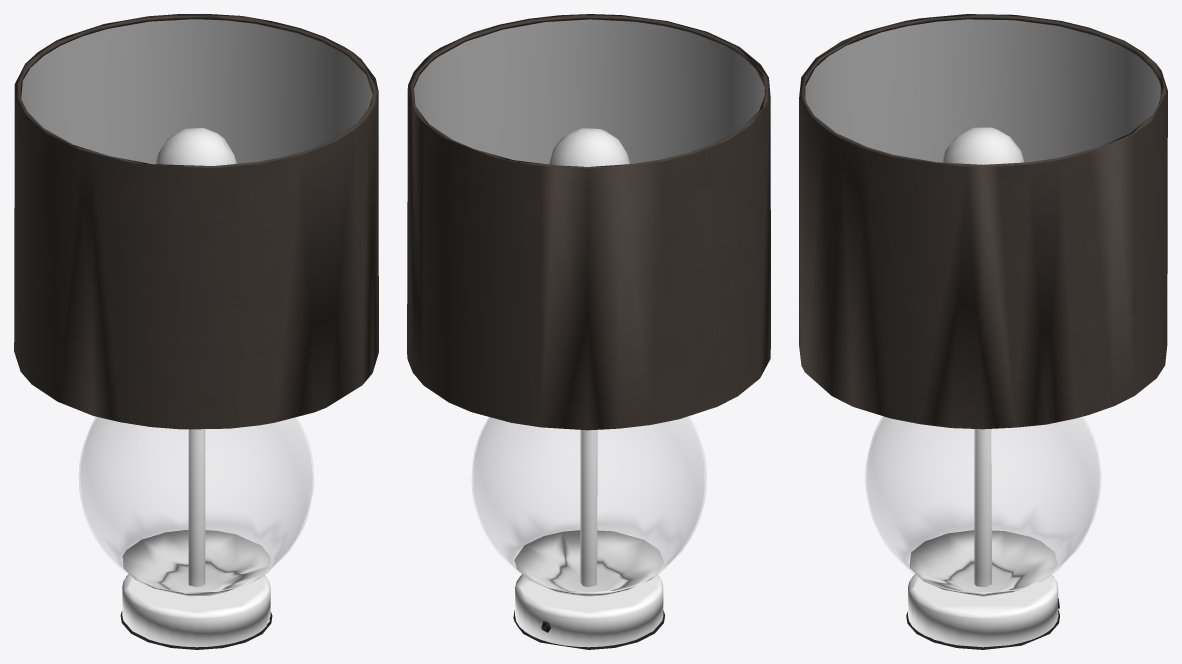
Rendered from IridescenceLamp.glb.
3 renders of one model, left to right at view 1: azimuth 30°, elevation 25°; view 2: azimuth 150°, elevation 25°; view 3: azimuth 270°, elevation 25°, orthographic.
Parts seen in each view (by area): view 1: lamp, lamp_iridescence, lamp_transmission; view 2: lamp, lamp_iridescence, lamp_transmission; view 3: lamp, lamp_iridescence, lamp_transmission.
Boxes of the visible parts, x1,y1,x2,y2 form: lamp: [14, 14, 378, 649]; lamp_iridescence: [21, 19, 372, 164]; lamp_transmission: [79, 417, 313, 592]; lamp: [407, 14, 770, 649]; lamp_iridescence: [414, 19, 764, 164]; lamp_transmission: [472, 416, 706, 592]; lamp: [799, 14, 1167, 649]; lamp_iridescence: [805, 19, 1160, 162]; lamp_transmission: [865, 416, 1100, 592].
Bounding box in the file's own units: 0.2963 × 0.4755 × 0.301.
3 materials, 3 textured.
